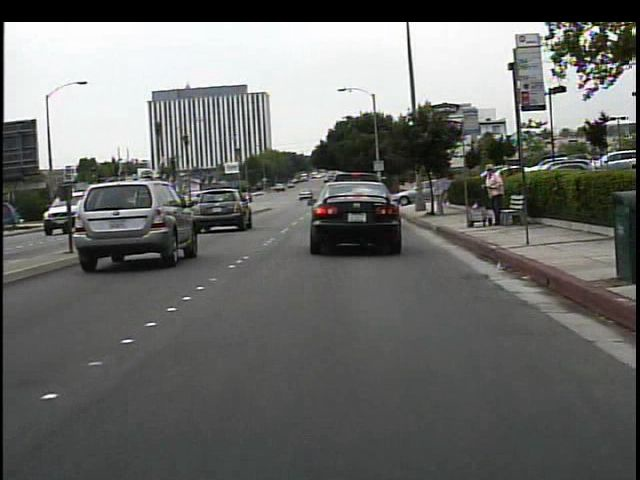person: (478, 163, 507, 228), (430, 167, 456, 218)
